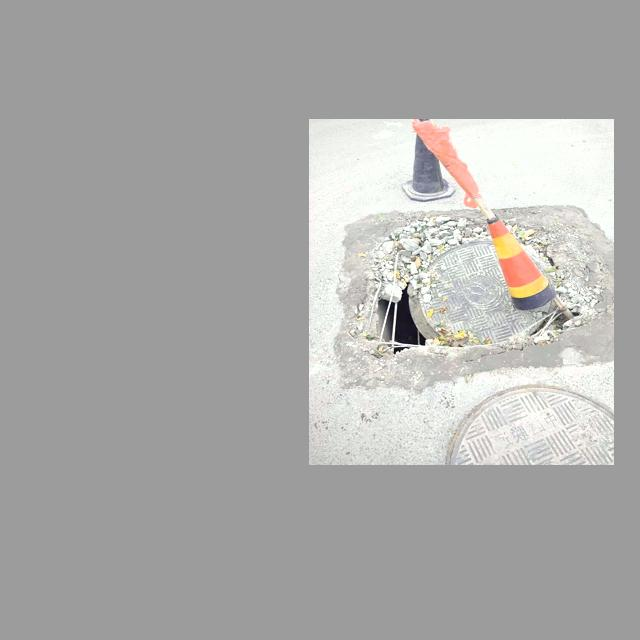circle: (374, 237, 568, 347)
